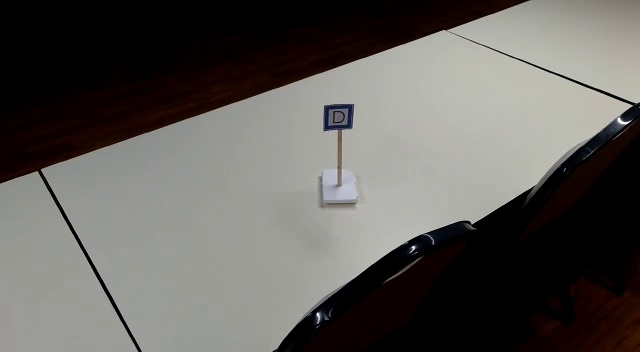durak: (324, 106, 352, 131)
